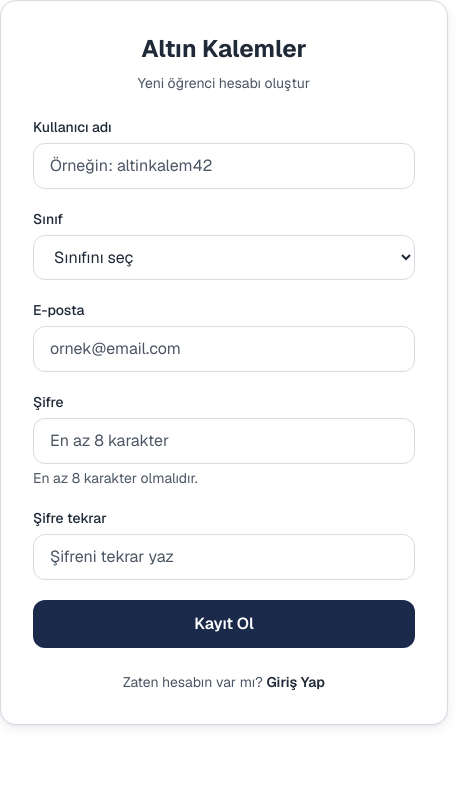
Test case: RegisterPage › session yoksa dogrulama mesaji gosterir
Type "testnick" into the field labelled "Kullanıcı adı" at (224, 166), box [33,143,415,189]
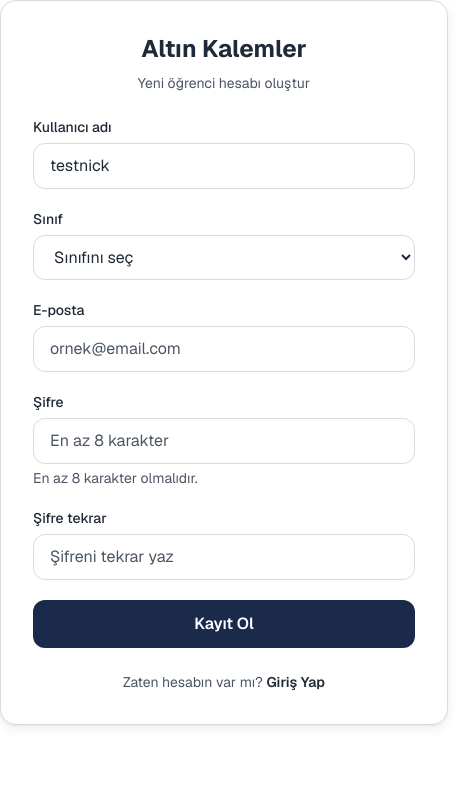
Select "10. Sınıf" in the dropdown labelled "Sınıf" at (224, 258), box [33,235,415,280]
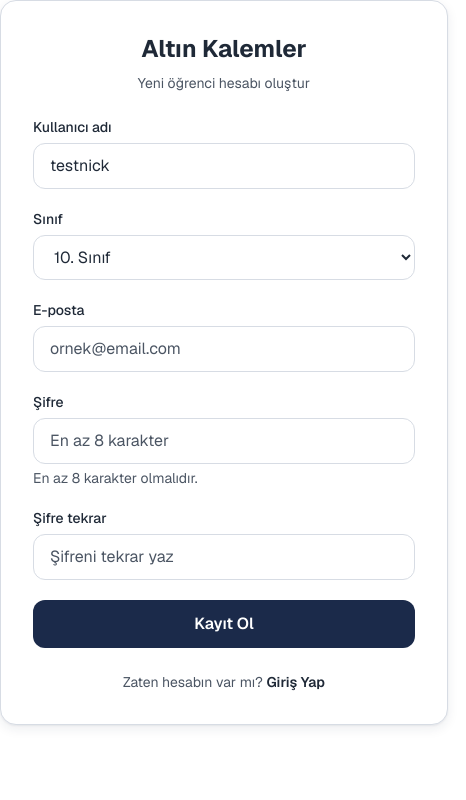
Type "test@test.com" into the field labelled "E-posta" at (224, 349), box [33,326,415,372]
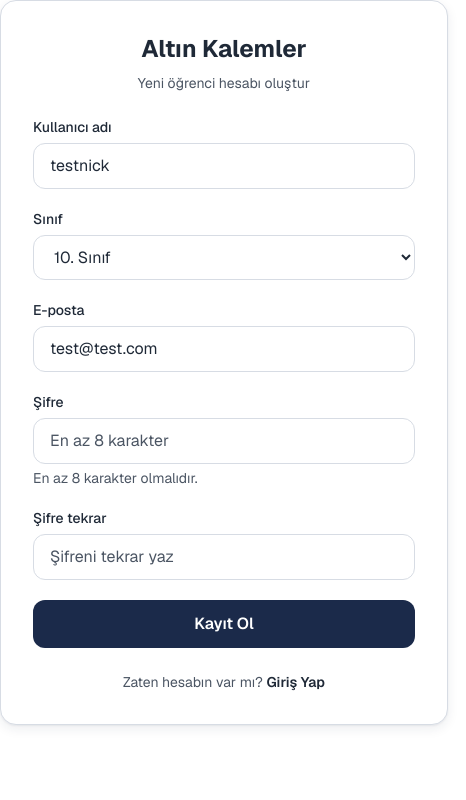
Type "securepass1" into the password field labelled "Şifre" at (224, 441), box [33,418,415,464]
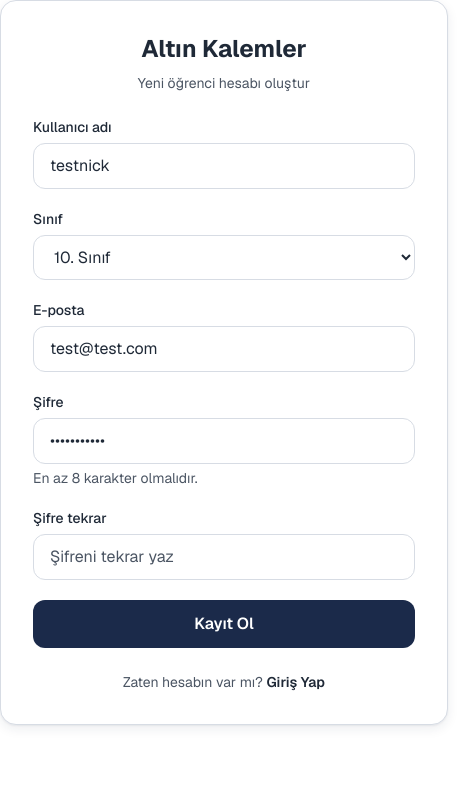
Type "securepass1" into the password field labelled "Şifre tekrar" at (224, 557), box [33,534,415,580]
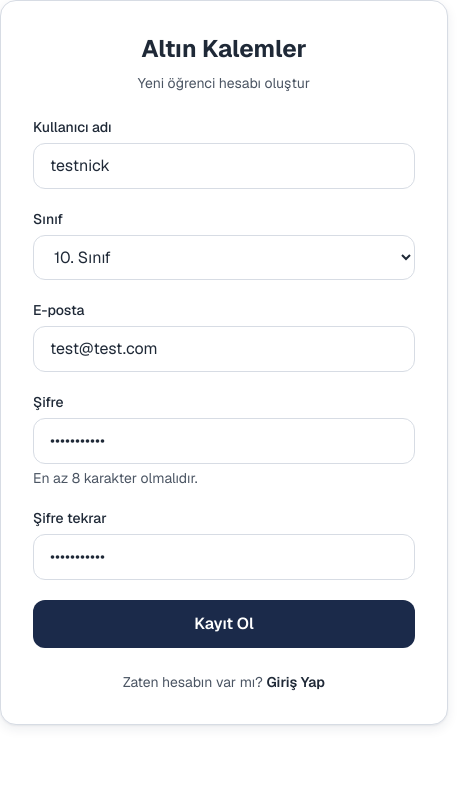
Click the button "Kayıt Ol" at (224, 624), box [33,600,415,648]
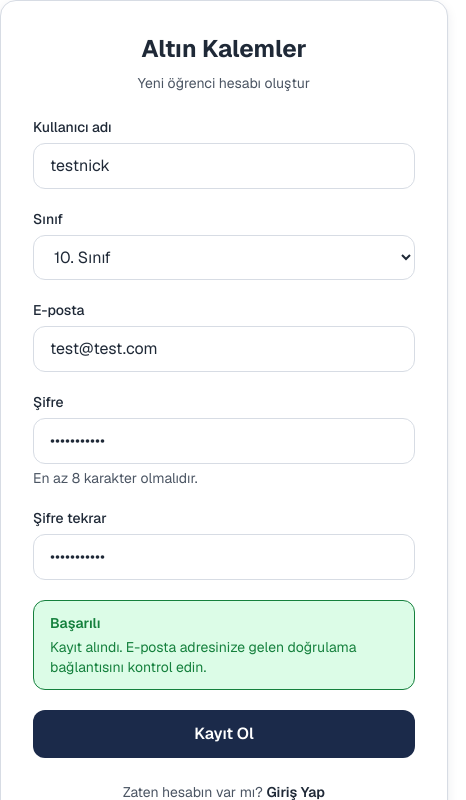
expect the text "Kayıt alındı. E-posta adresinize gelen doğrulama bağlantısını kontrol edin." is shown: met, box [50,637,398,677]
